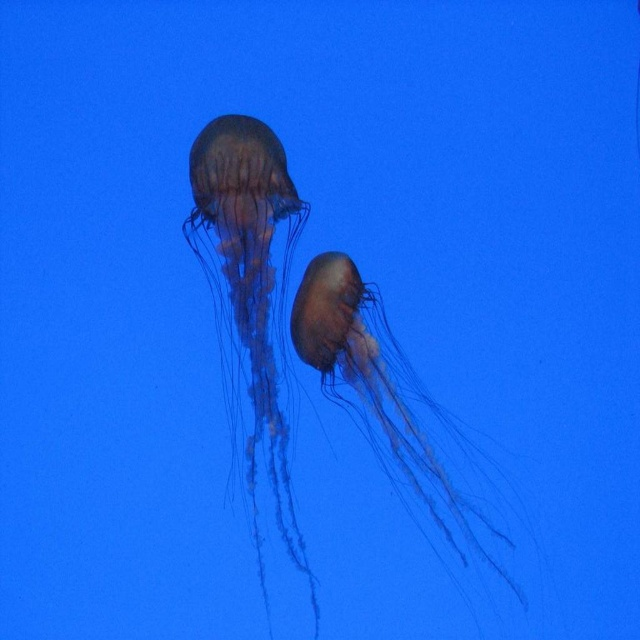Jellyfish: (288, 249, 552, 639), (181, 113, 315, 639)
